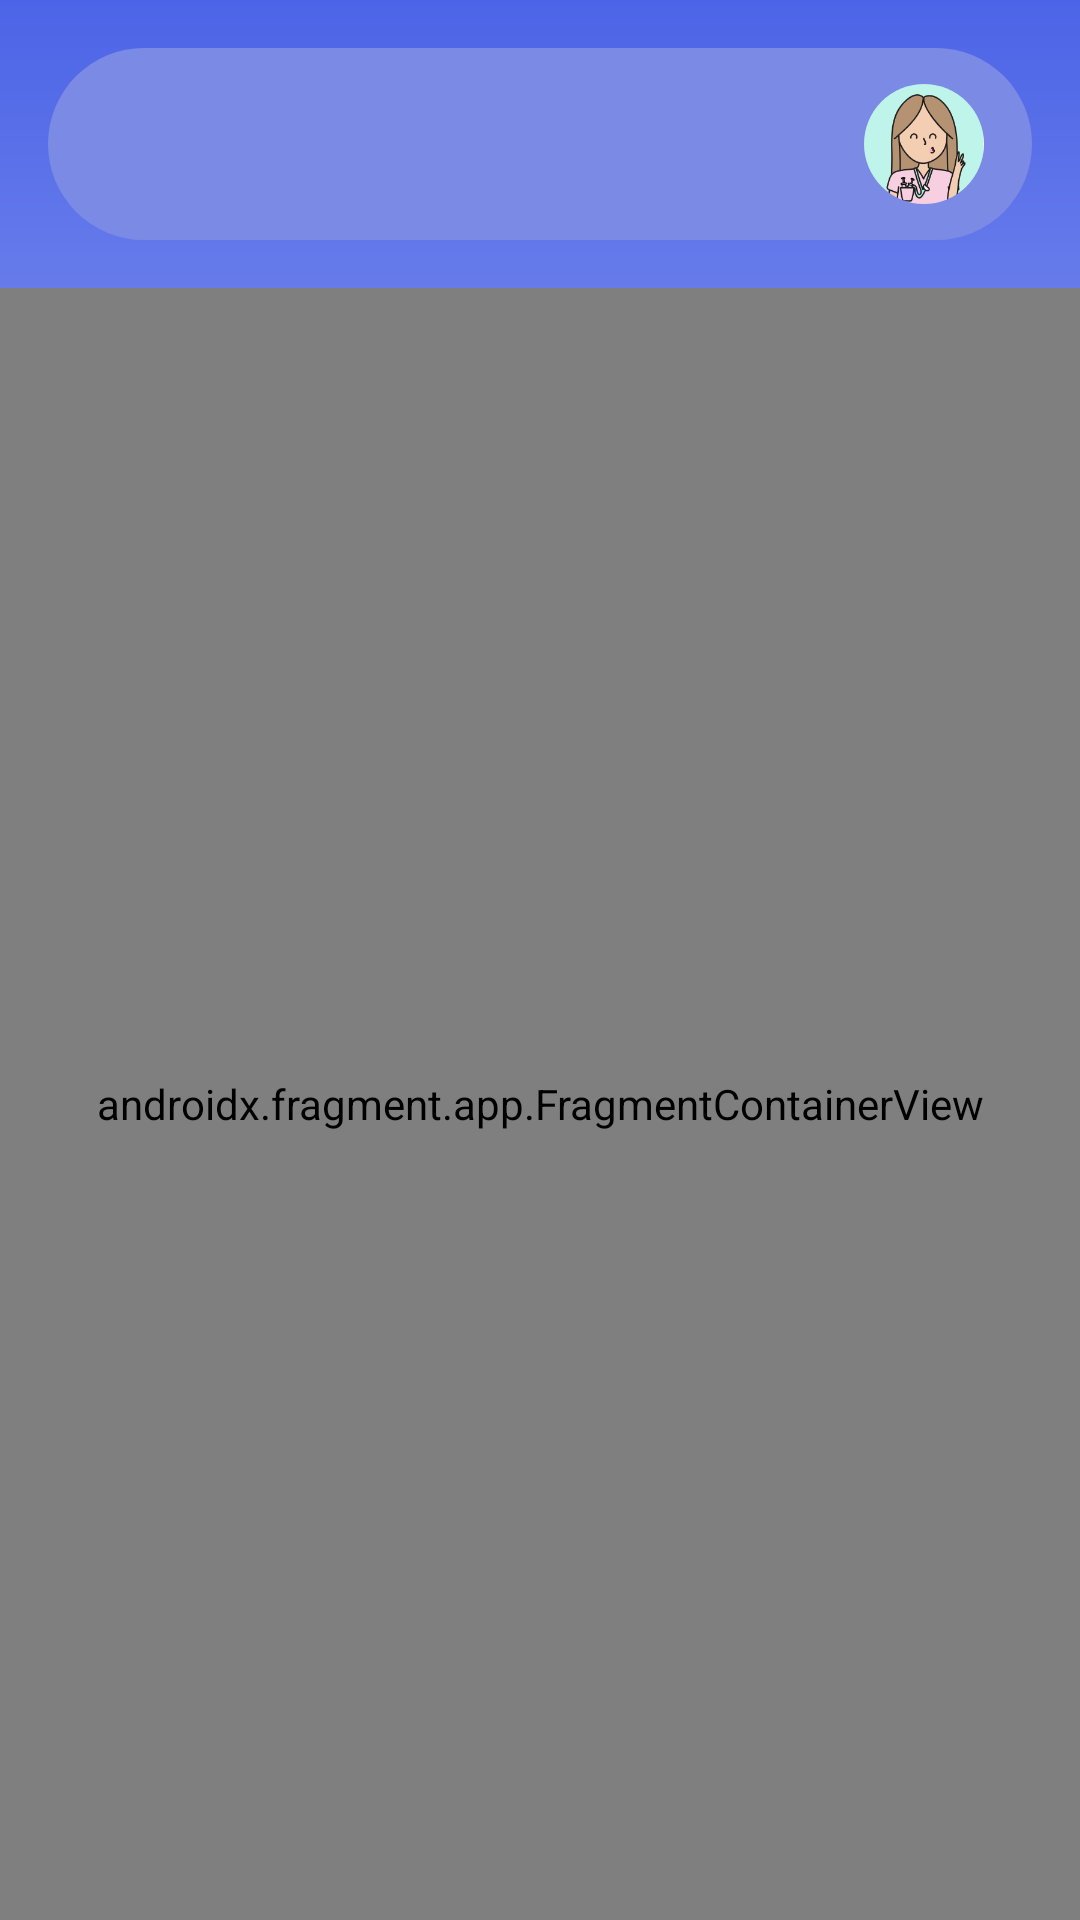

Locate icon controls on the screen. Image size 1080×1920, boxes as (x1, y1, x2, y2).
enfermera: (864, 84, 984, 204)
